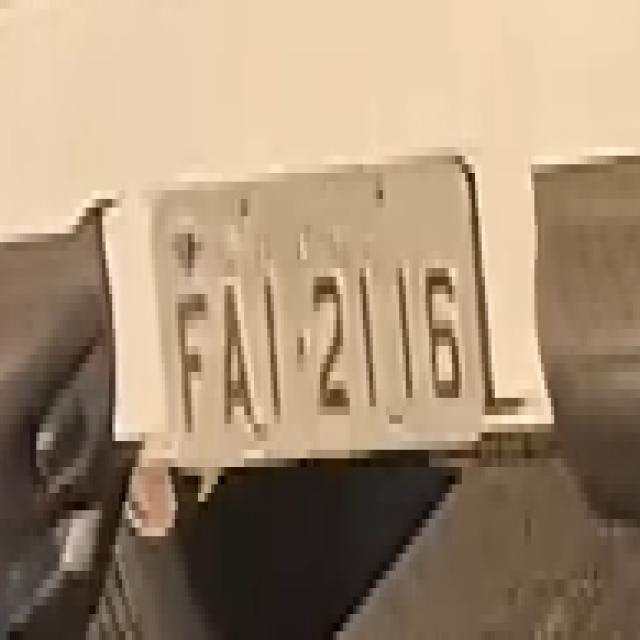Placa_mercosul_carro: (145, 145, 496, 469)
